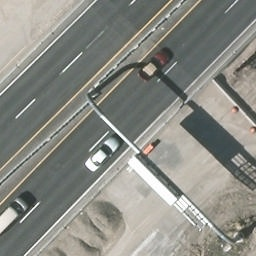car: (81, 135, 124, 174), (136, 51, 173, 83)
van: (0, 196, 30, 241)
